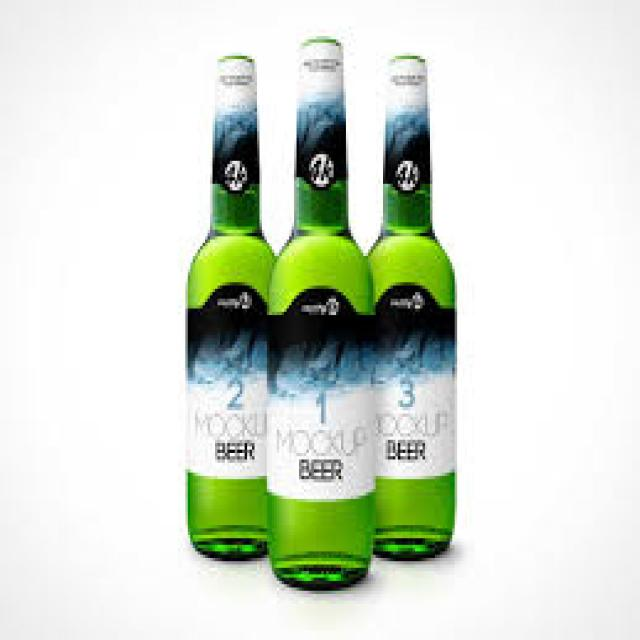glass: (262, 36, 373, 584), (183, 52, 279, 558), (361, 52, 452, 558)
